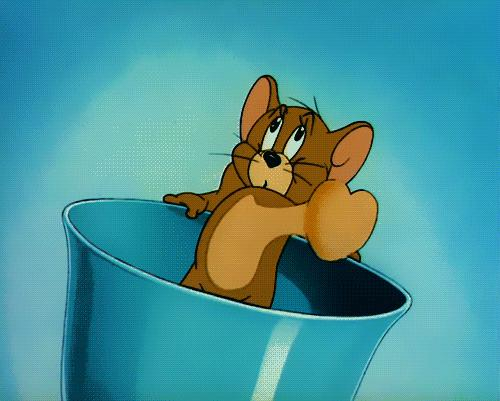jerry: (160, 72, 381, 310)
